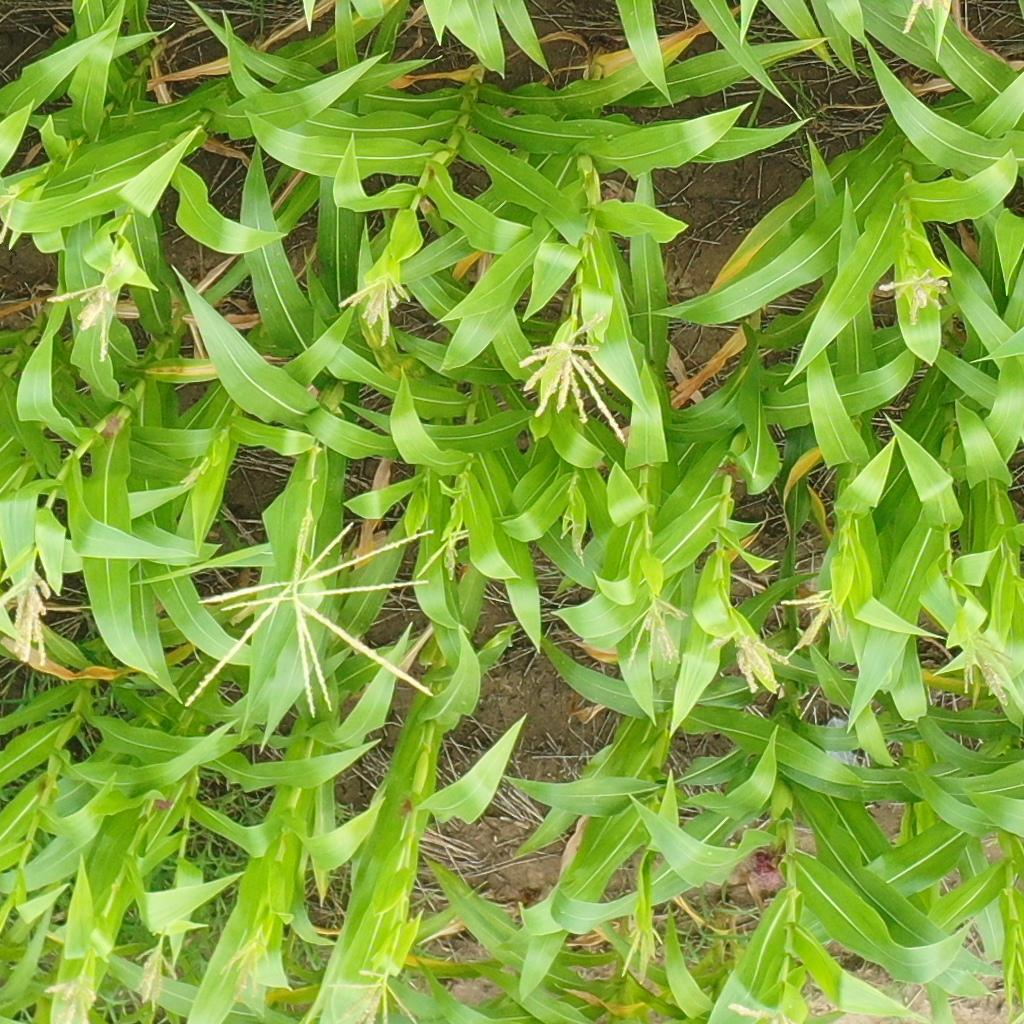Tassel: (188, 513, 443, 727), (517, 308, 630, 447), (45, 281, 128, 365), (708, 623, 792, 699), (327, 962, 420, 1024), (336, 272, 411, 347), (1, 564, 53, 672), (623, 597, 694, 672), (779, 587, 848, 659), (960, 621, 1016, 707), (131, 926, 178, 1012), (879, 269, 949, 324), (221, 925, 272, 1000), (417, 527, 472, 587), (622, 925, 665, 989), (43, 978, 97, 1024), (901, 1, 950, 37), (729, 1002, 798, 1024), (560, 511, 586, 566), (1, 184, 24, 246), (181, 458, 207, 488), (837, 523, 854, 556)
